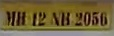character: (37, 11, 46, 26), (74, 11, 83, 26), (83, 11, 91, 26), (91, 11, 99, 26), (100, 12, 108, 26), (31, 12, 37, 27)
